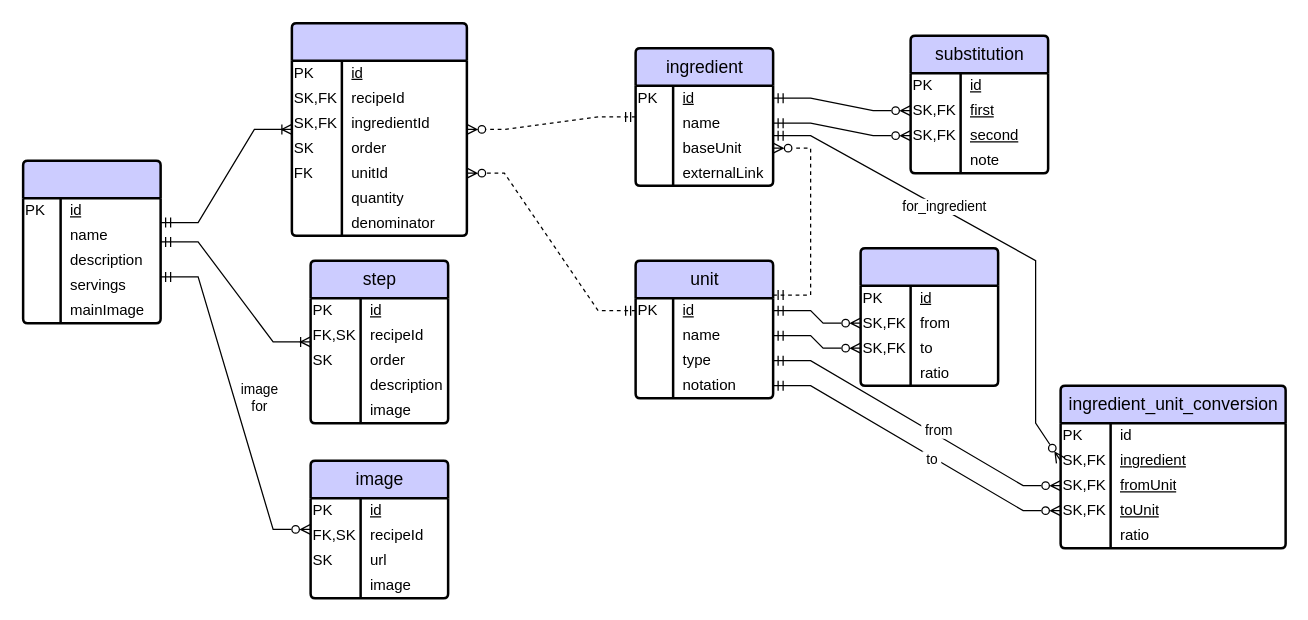
The diagram is 1308 pixels wide and 620 high, and some of its shapes have lost their labels. The box of each missing label's shape, as (x1, y1, x2, y2) in pixels:
recipe: (21, 159, 161, 324)
recipe_ingredient: (290, 21, 468, 236)
unit_conversion: (859, 246, 999, 386)
